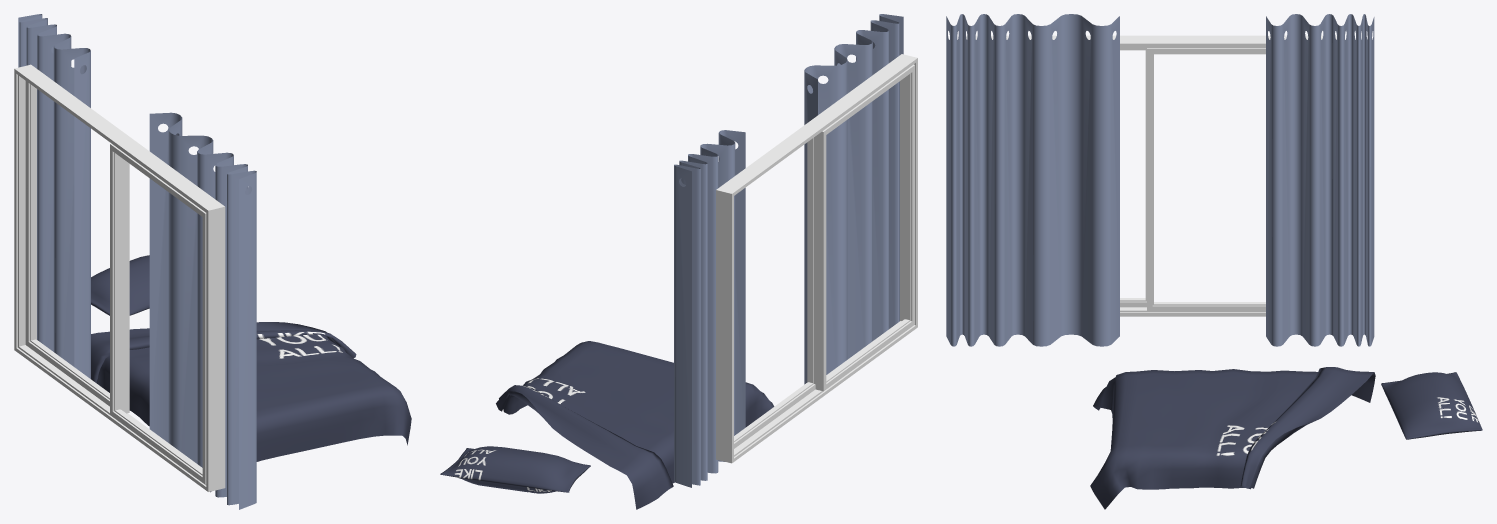
Rendered from Curtain_Lv2.FBX.
3 views of the same model, side by side, from view 1: azimuth 30°, elevation 25°; view 2: azimuth 150°, elevation 25°; view 3: azimuth 270°, elevation 25° (orthographic). The views are drawn at different scales.
Visible parts, largest first — view 1: Obj_blinder_Lv02, Obj_Window_Edge, obj_bed_Lv_02, Obj_blinder_Lv2, Obj_Window_Edge_02, obj_bed_Lv2; view 2: Obj_blinder_Lv02, Obj_blinder_Lv2, obj_bed_Lv_02, Obj_Window_Edge, Obj_Window_Edge_02, obj_bed_Lv2; view 3: Obj_blinder_Lv02, Obj_blinder_Lv2, obj_bed_Lv_02, Obj_Window_Edge, obj_bed_Lv2, Obj_Window_Edge_02.
Part boxes in pixels (<box>): Obj_blinder_Lv02: <box>149,112,256,509</box>; Obj_Window_Edge: <box>14,64,225,491</box>; obj_bed_Lv_02: <box>91,322,411,492</box>; Obj_blinder_Lv2: <box>18,14,90,378</box>; Obj_Window_Edge_02: <box>110,143,206,484</box>; obj_bed_Lv2: <box>91,255,149,315</box>; Obj_blinder_Lv02: <box>804,14,903,384</box>; Obj_blinder_Lv2: <box>674,130,745,487</box>; obj_bed_Lv_02: <box>496,341,774,509</box>; Obj_Window_Edge: <box>716,54,917,463</box>; Obj_Window_Edge_02: <box>815,64,914,391</box>; obj_bed_Lv2: <box>440,446,590,493</box>; Obj_blinder_Lv02: <box>946,14,1119,346</box>; Obj_blinder_Lv2: <box>1266,14,1374,346</box>; obj_bed_Lv_02: <box>1090,367,1375,509</box>; Obj_Window_Edge: <box>966,35,1336,316</box>; obj_bed_Lv2: <box>1381,372,1482,439</box>; Obj_Window_Edge_02: <box>1120,48,1146,307</box>.
Size of the model in its own units: 68.6 by 86.74 by 112.
